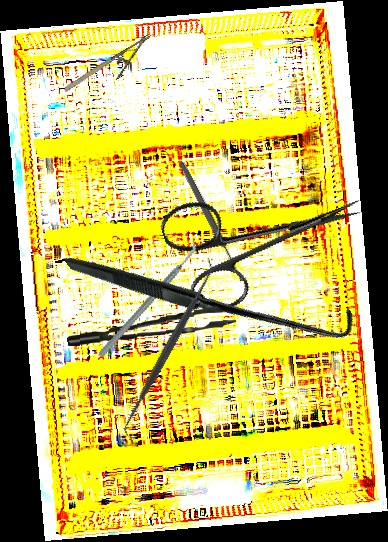Chopper: (70, 237, 226, 359)
Hook Surgical: (62, 139, 361, 444)
Iris Scissors: (155, 150, 379, 321)
Needle Holder: (62, 32, 163, 106)
Spatula Surgical: (111, 256, 226, 439)
Surgical Spoon: (177, 160, 246, 284)
Tissue Forceps: (66, 307, 237, 346)
